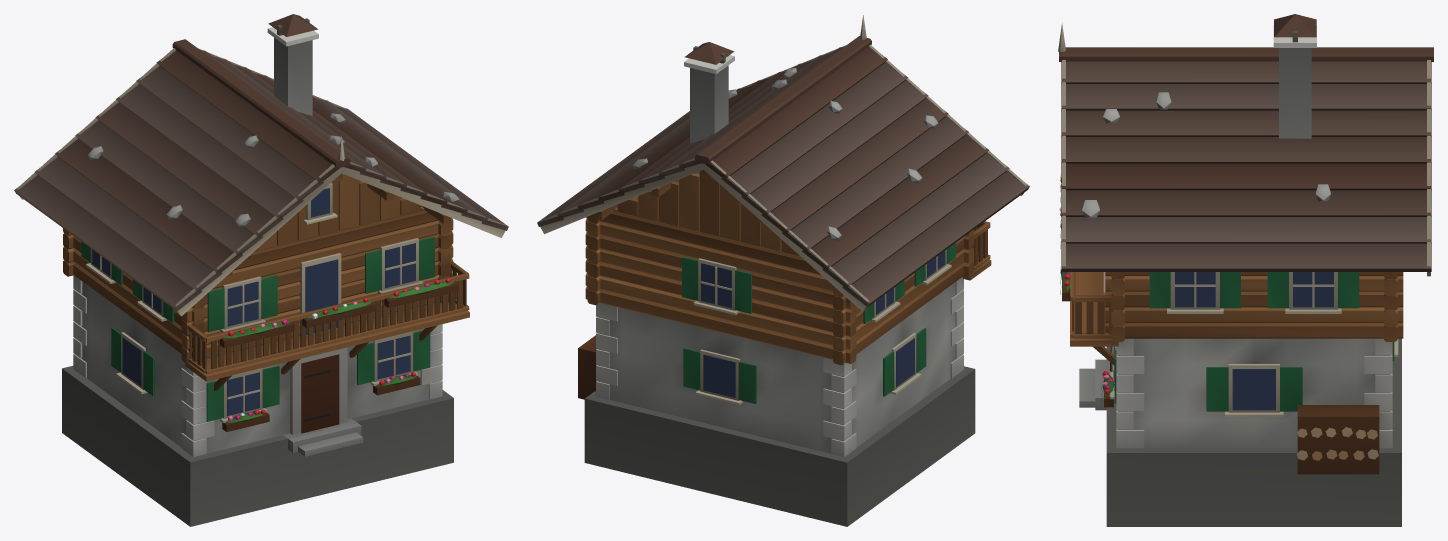
The model's file is mountain_lodge.glb.
3 views of the same model, side by side, from view 1: azimuth 30°, elevation 25°; view 2: azimuth 150°, elevation 25°; view 3: azimuth 270°, elevation 25° (orthographic). The views are drawn at different scales.
Visible parts, largest first — view 1: mountain_lodge; view 2: mountain_lodge; view 3: mountain_lodge.
Boxes of the visible parts, bbox=[...] form: mountain_lodge: bbox=[14, 14, 508, 526]; mountain_lodge: bbox=[537, 15, 1029, 526]; mountain_lodge: bbox=[1058, 14, 1433, 526].
Size of the model in its own units: 9.74 by 11.38 by 8.27.
